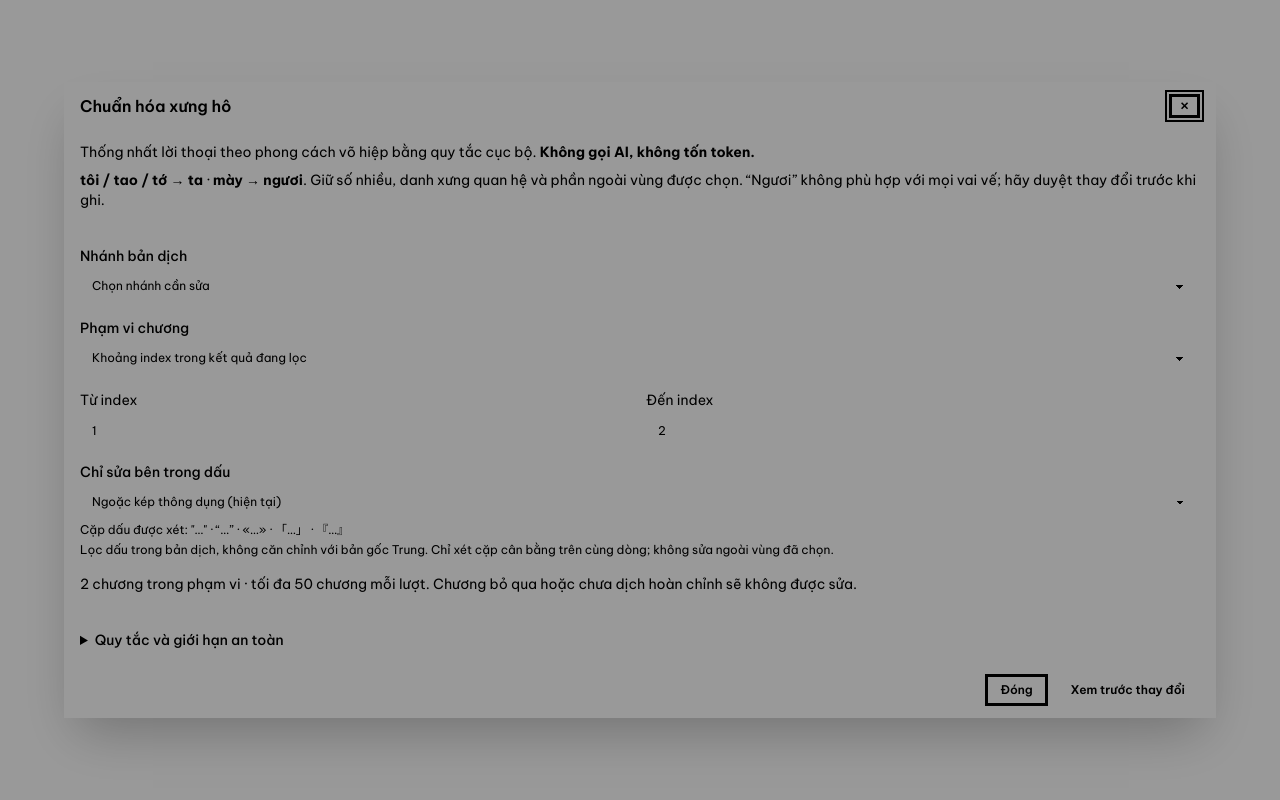
it: pronoun review dialog › handles empty and skipped results without offering a write
Select "Bản dịch AI" in the dropdown labelled "Nhánh bản dịch" at (640, 286), box [80,270,1200,302]
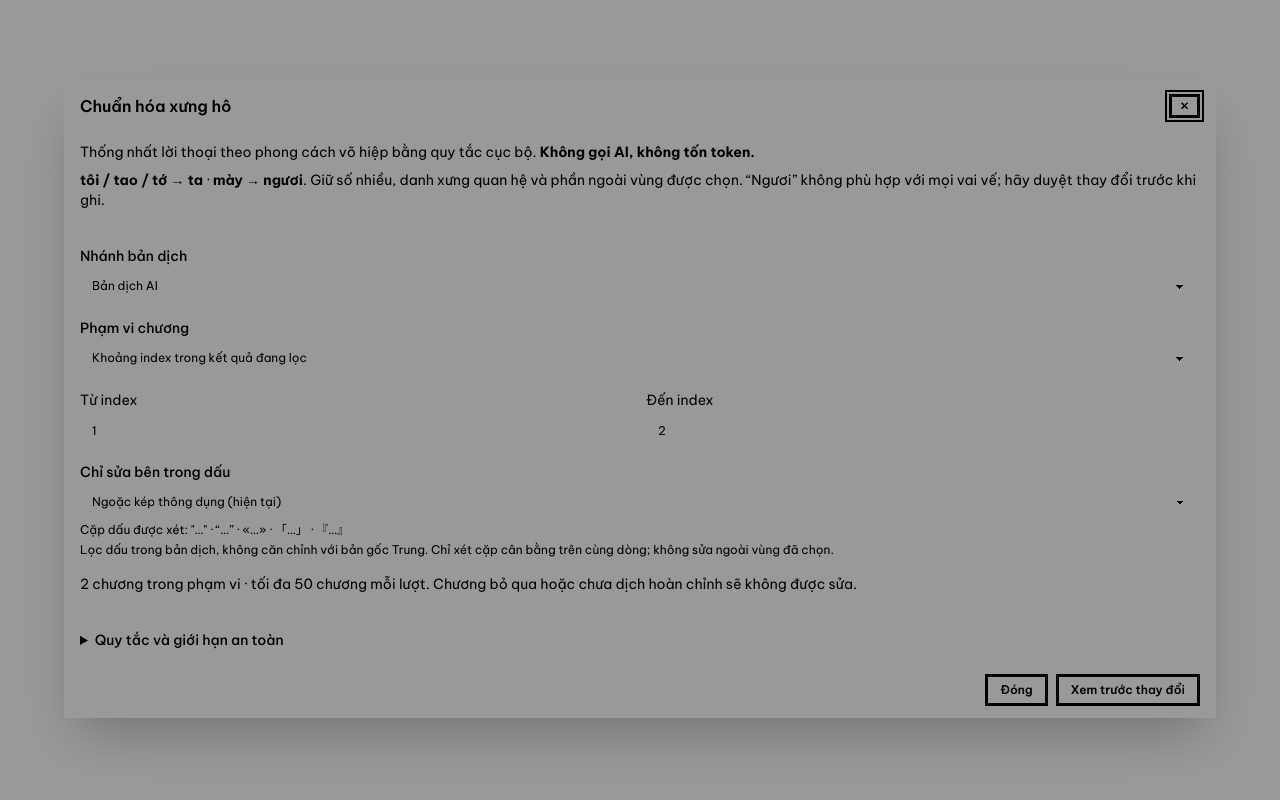
Click the button "Xem trước thay đổi" at (1128, 690), box [1056,674,1200,706]
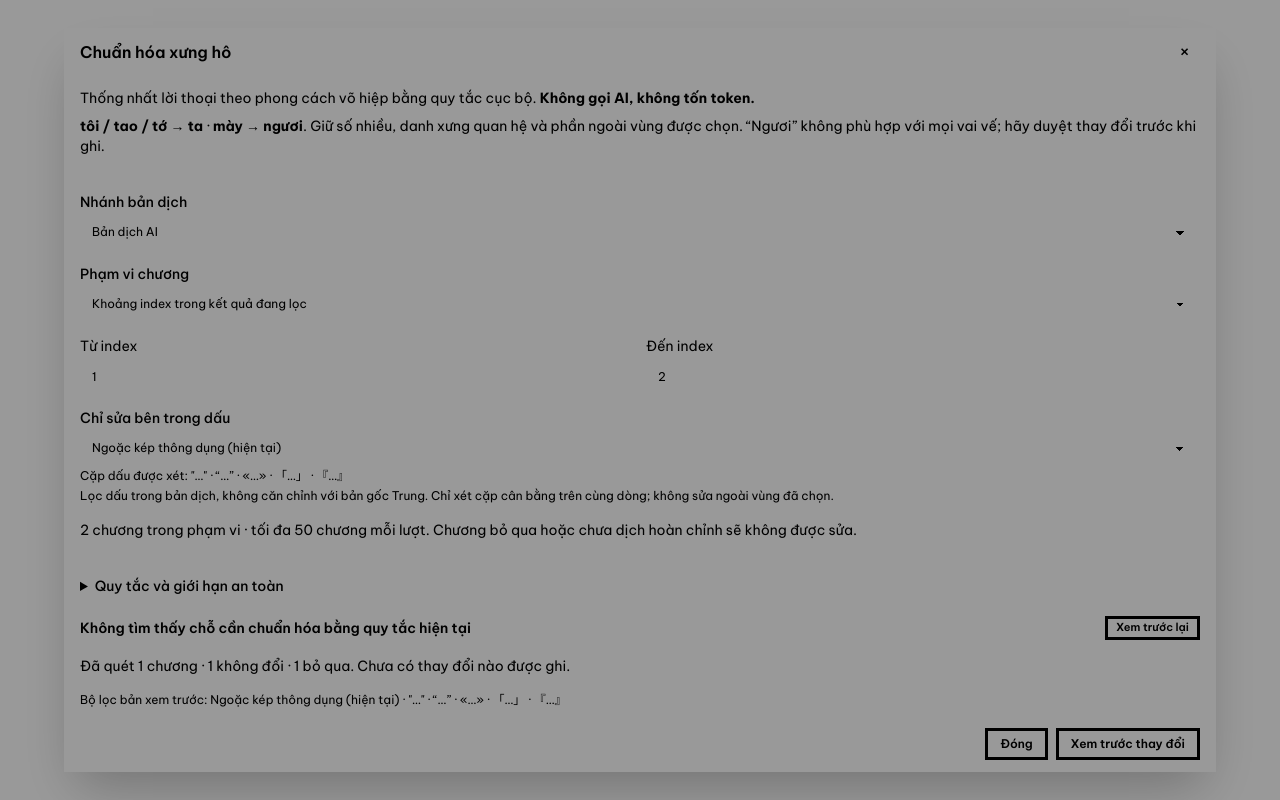
Expected: the element named "Bản xem trước xưng hô" is shown, [80,616,1200,716]
Expected: the heading "Không tìm thấy chỗ cần chuẩn hóa bằng quy tắc hiện tại" is shown, [80,618,471,638]
